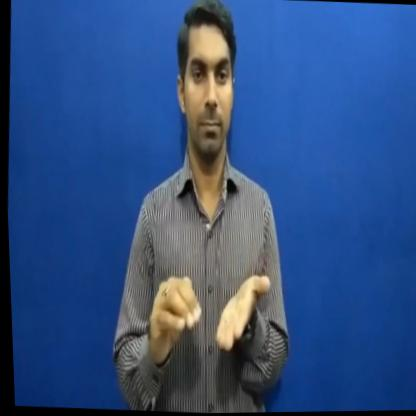ExcuseMe: (134, 230, 271, 391)
